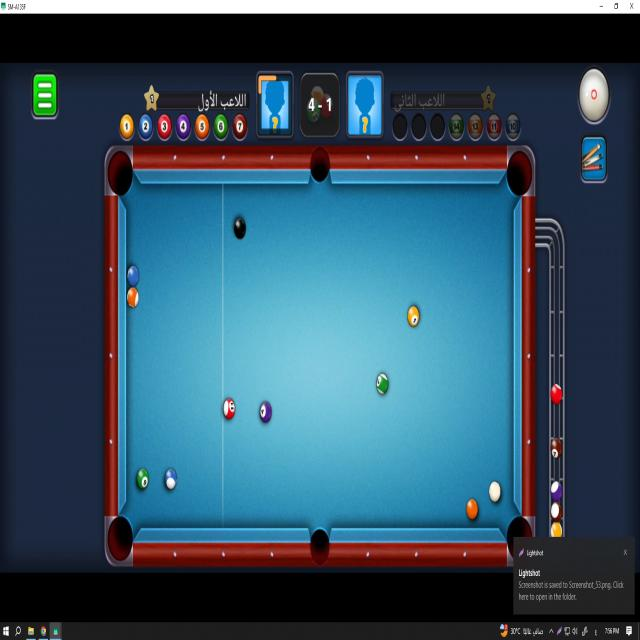object_ball: (234, 217, 245, 239), (223, 399, 235, 419), (128, 265, 139, 286), (260, 402, 271, 423), (408, 306, 419, 327), (127, 287, 138, 307), (377, 374, 388, 394), (466, 499, 477, 519), (165, 469, 176, 489), (137, 469, 148, 488)
white_cue_ball: (489, 481, 501, 503)
